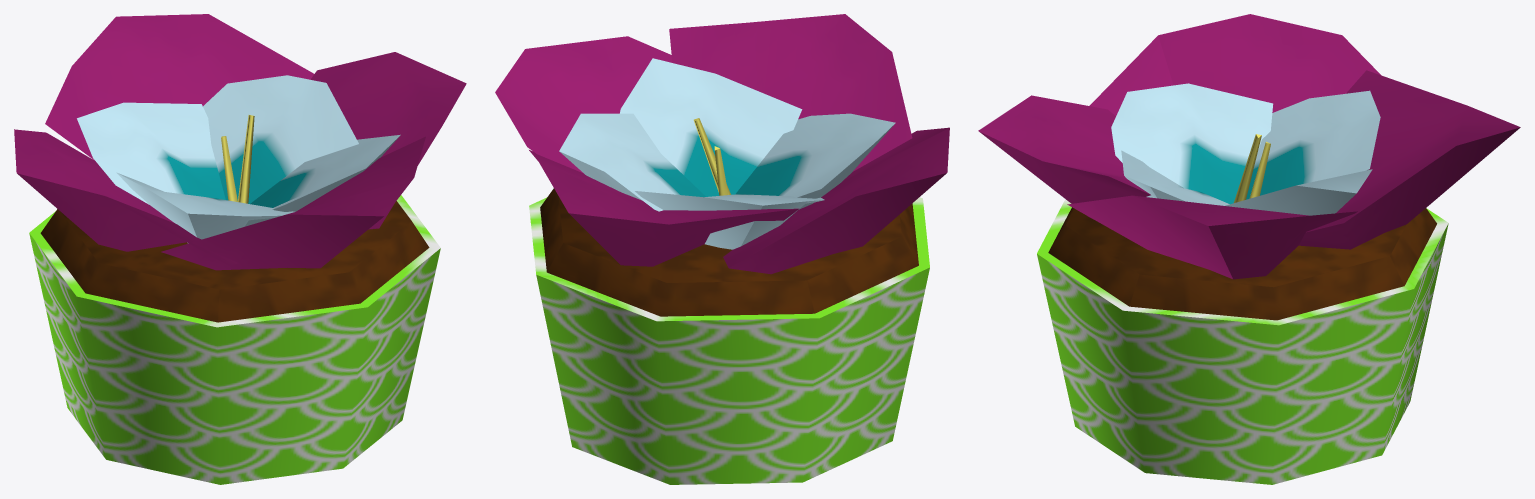
File: Cupcake_B_18.FBX
3 renders of one model, left to right at view 1: azimuth 30°, elevation 25°; view 2: azimuth 150°, elevation 25°; view 3: azimuth 270°, elevation 25°, orthographic. The views are drawn at different scales.
Visible parts, largest first — view 1: Cupcake_B; view 2: Cupcake_B; view 3: Cupcake_B.
Part boxes in pixels (x1,y1,x2,y2): Cupcake_B: (14,14,466,484); Cupcake_B: (495,14,949,484); Cupcake_B: (978,14,1520,484).
Bounding box in the file's own units: 38.73 × 26.15 × 41.87.
